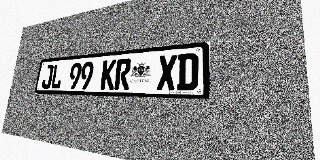9: (79, 61, 94, 89), (68, 62, 82, 89)
D: (176, 53, 198, 90)
J: (41, 65, 54, 89)
K: (100, 59, 117, 90)
L: (50, 64, 64, 89)
R: (114, 58, 132, 90)
X: (157, 54, 177, 90)
